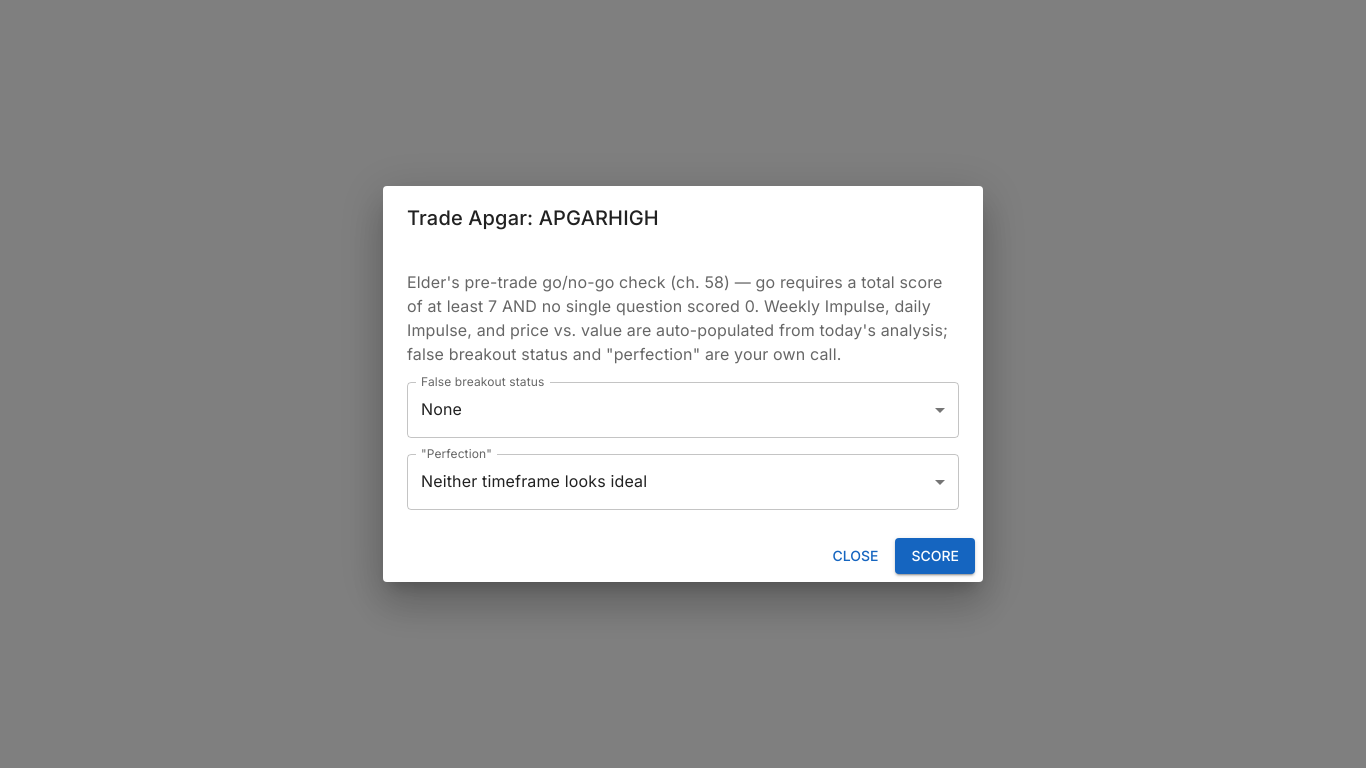
Test: TradeApgarDialog › scores a NO-GO outcome from a single zero despite a high total
Click the dropdown named "False breakout status" at {"x": 442, "y": 409}, box [421,399,462,419]
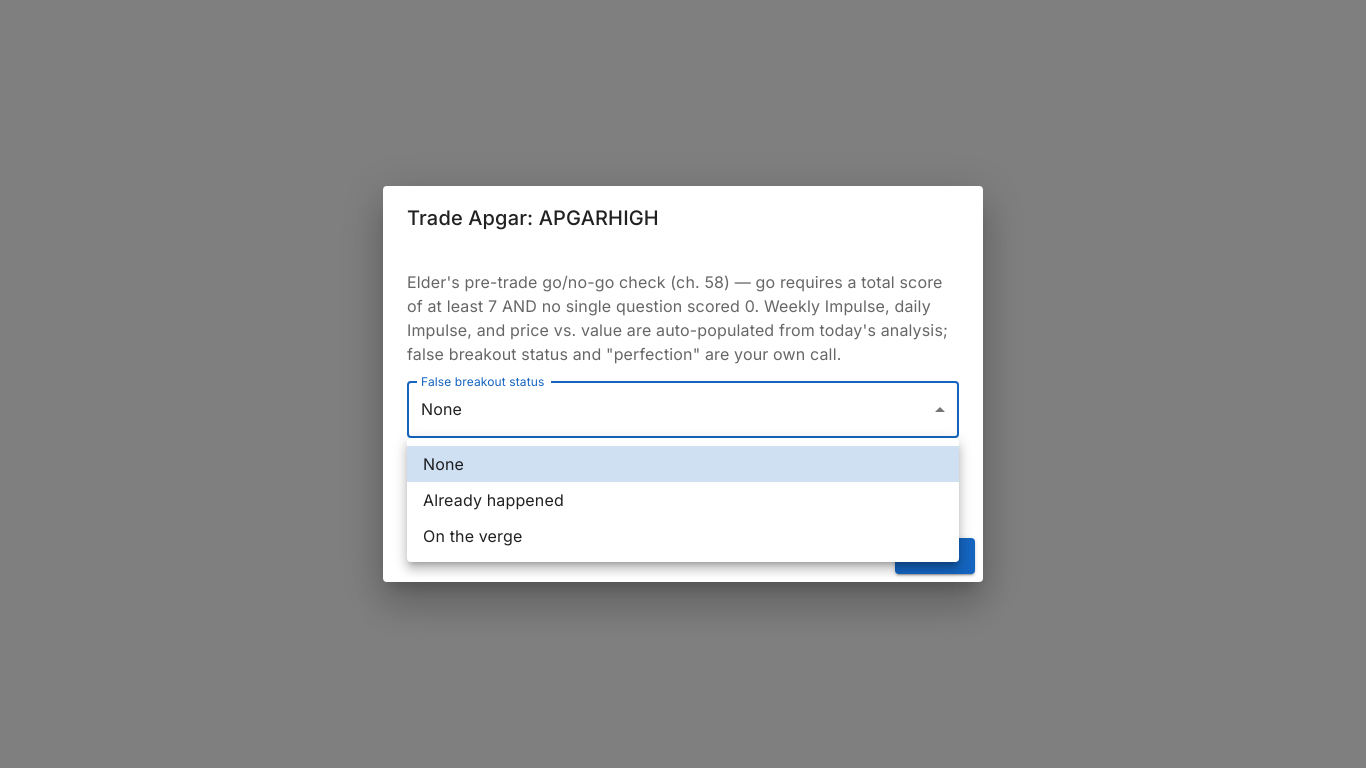
Click the option "On the verge" at {"x": 473, "y": 536}, box [423,526,522,546]
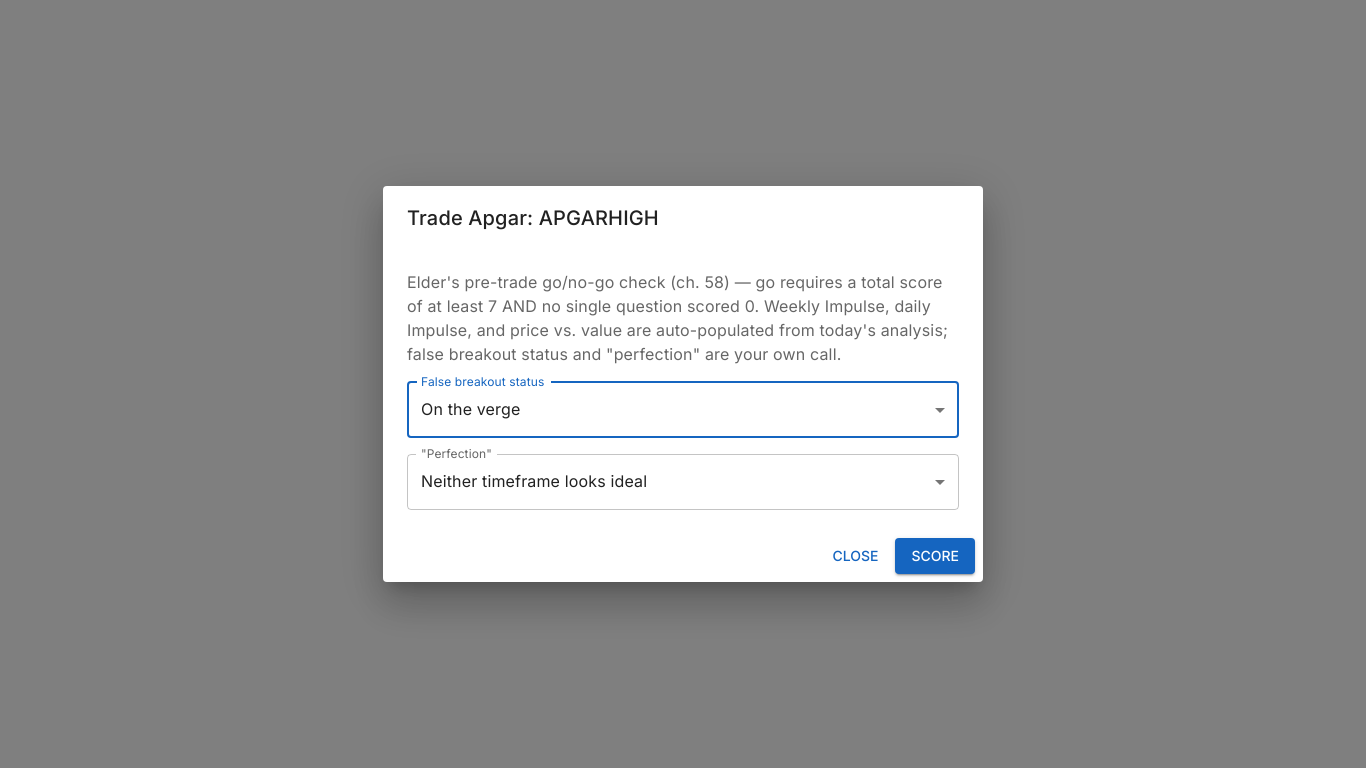
Click the button "Score" at {"x": 935, "y": 556}, box [895,538,975,574]
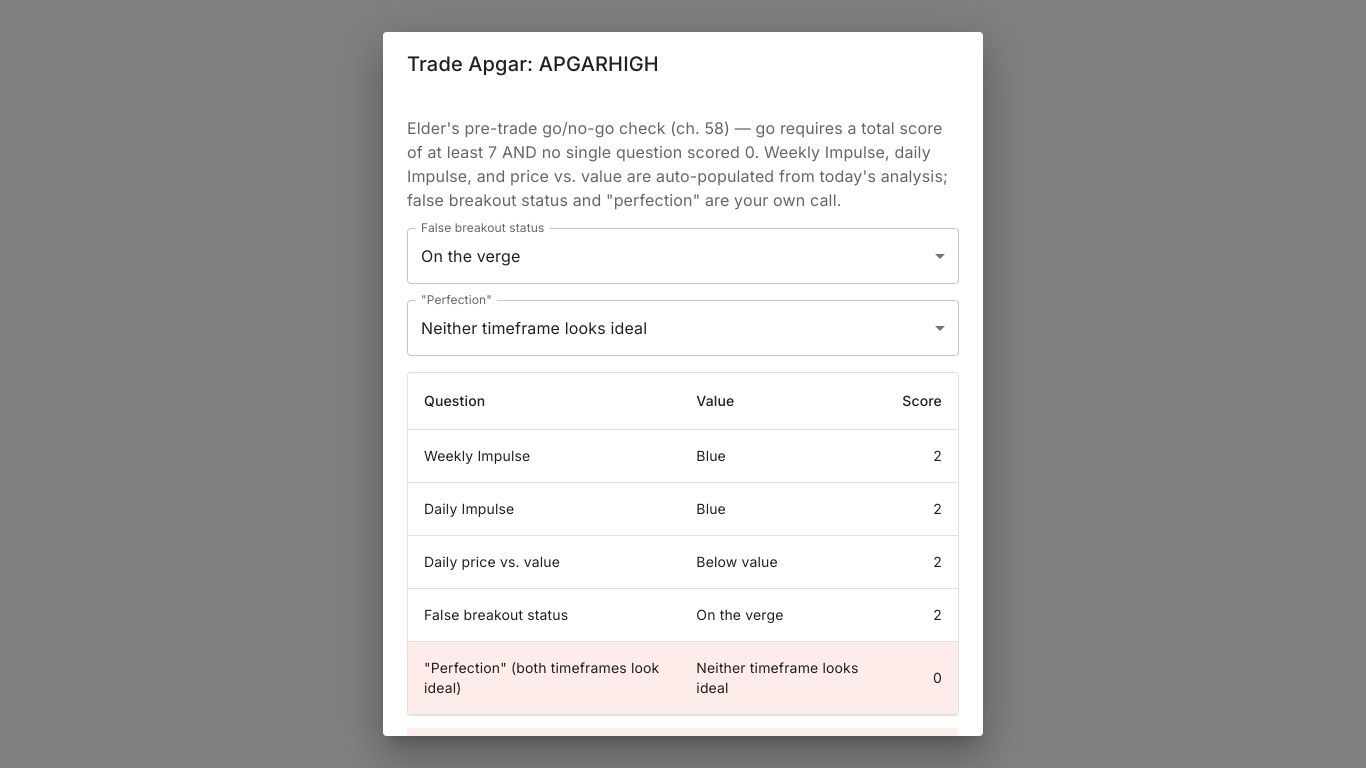
Result: the text "Blue" is shown 2 times at [680,430,886,482]; [680,482,886,536]
Result: the text "Below value" is shown at [680,536,886,588]
